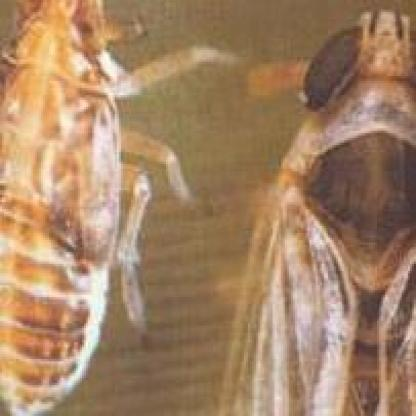brown-planthopper: (241, 8, 416, 416), (0, 0, 121, 404)
